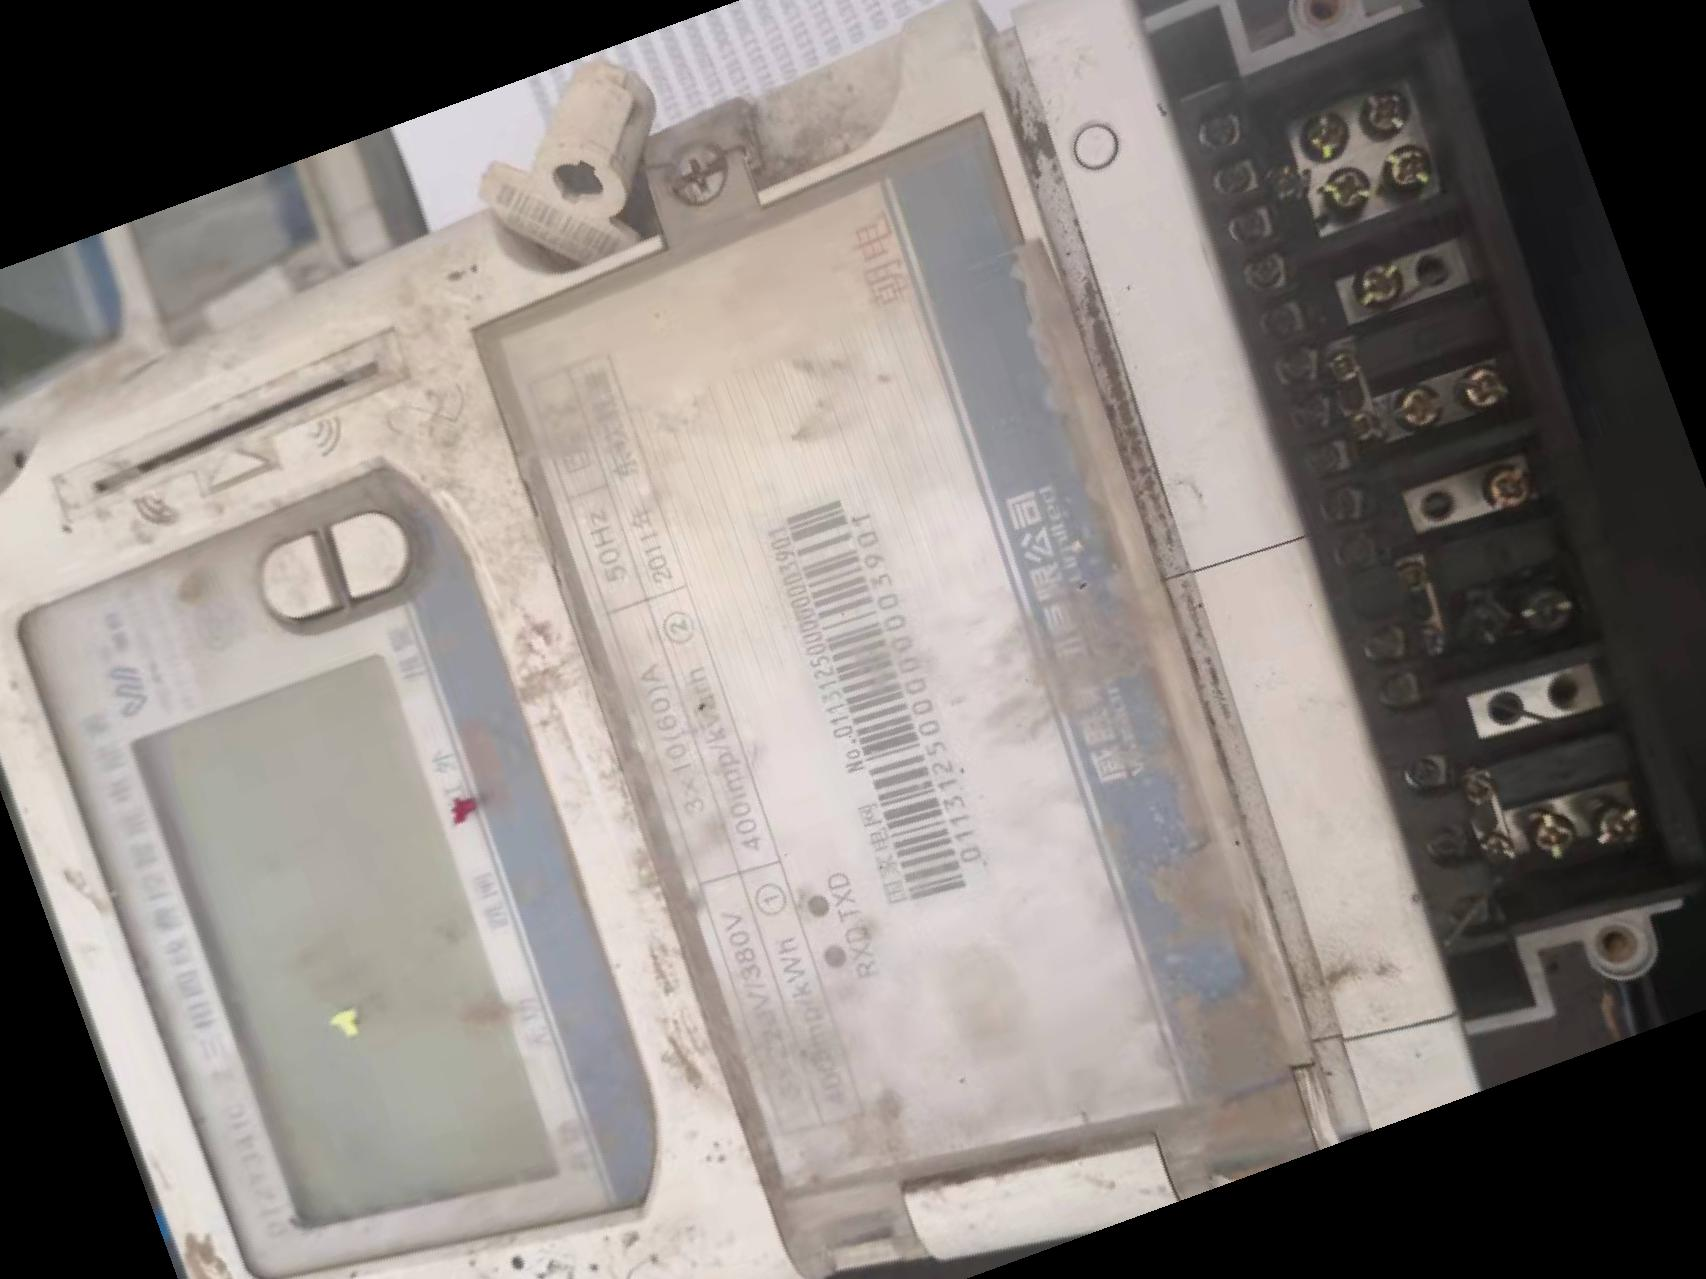digital: (4, 1, 1337, 1279)
